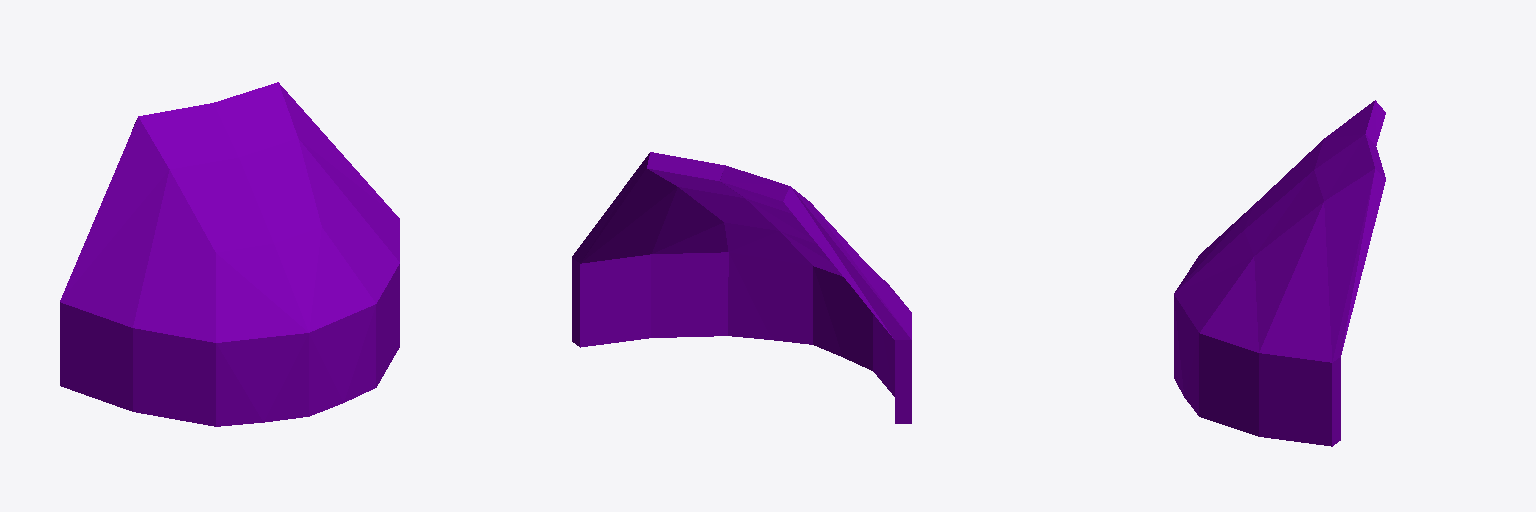
File: Hood2.obj
3 renders of one model, left to right at view 1: azimuth 30°, elevation 25°; view 2: azimuth 150°, elevation 25°; view 3: azimuth 270°, elevation 25°, orthographic.
Parts seen in each view (by area): view 1: Hood2_Cylinder.010; view 2: Hood2_Cylinder.010; view 3: Hood2_Cylinder.010.
Boxes of the visible parts, x1,y1,x2,y2 form: Hood2_Cylinder.010: [60, 82, 399, 426]; Hood2_Cylinder.010: [572, 152, 911, 423]; Hood2_Cylinder.010: [1174, 100, 1385, 446].
Bounding box in the file's own units: 6.96 × 4.76 × 3.77.